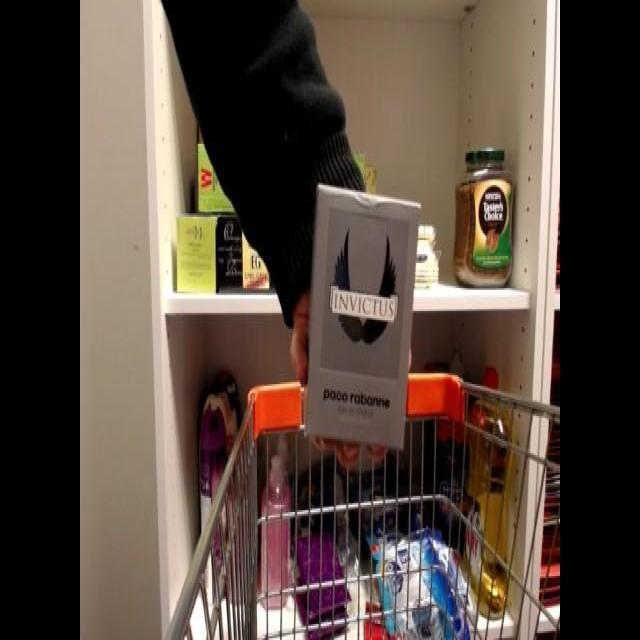Paco Rabanne: (302, 180, 424, 455)
